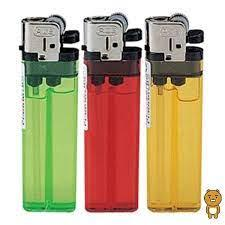lighter: (146, 14, 204, 213), (83, 15, 141, 212), (20, 16, 77, 212)
